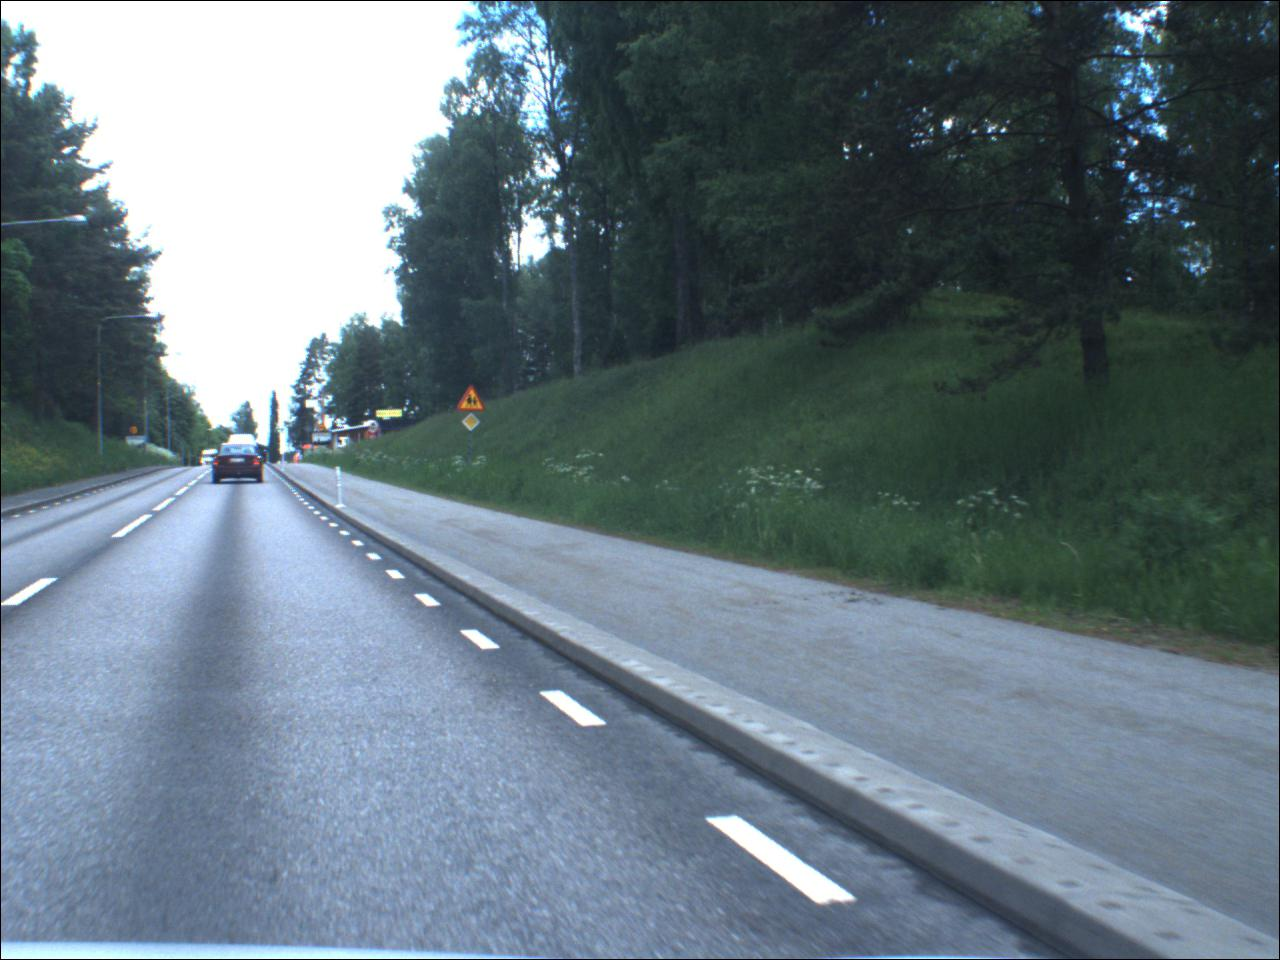50_SIGN: (131, 427, 143, 438), (320, 426, 330, 434)
PRIORITY_ROAD: (464, 413, 485, 434)
WARNING_CHILDREN: (457, 384, 487, 414)
